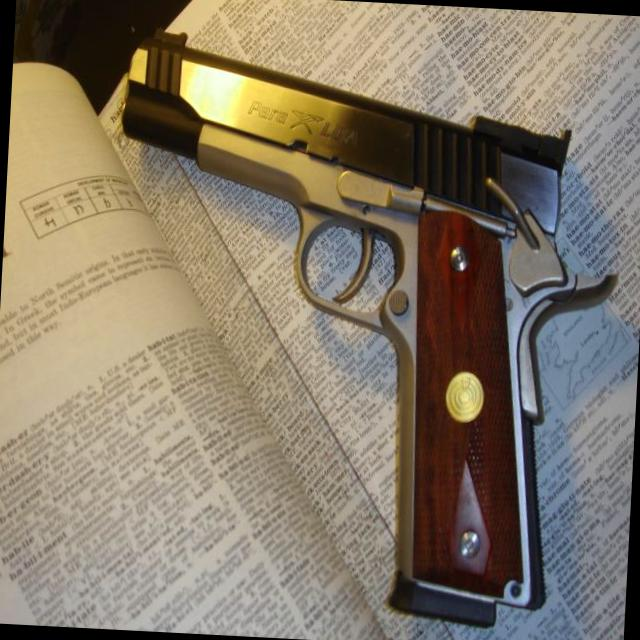Gun: (123, 32, 612, 626)
